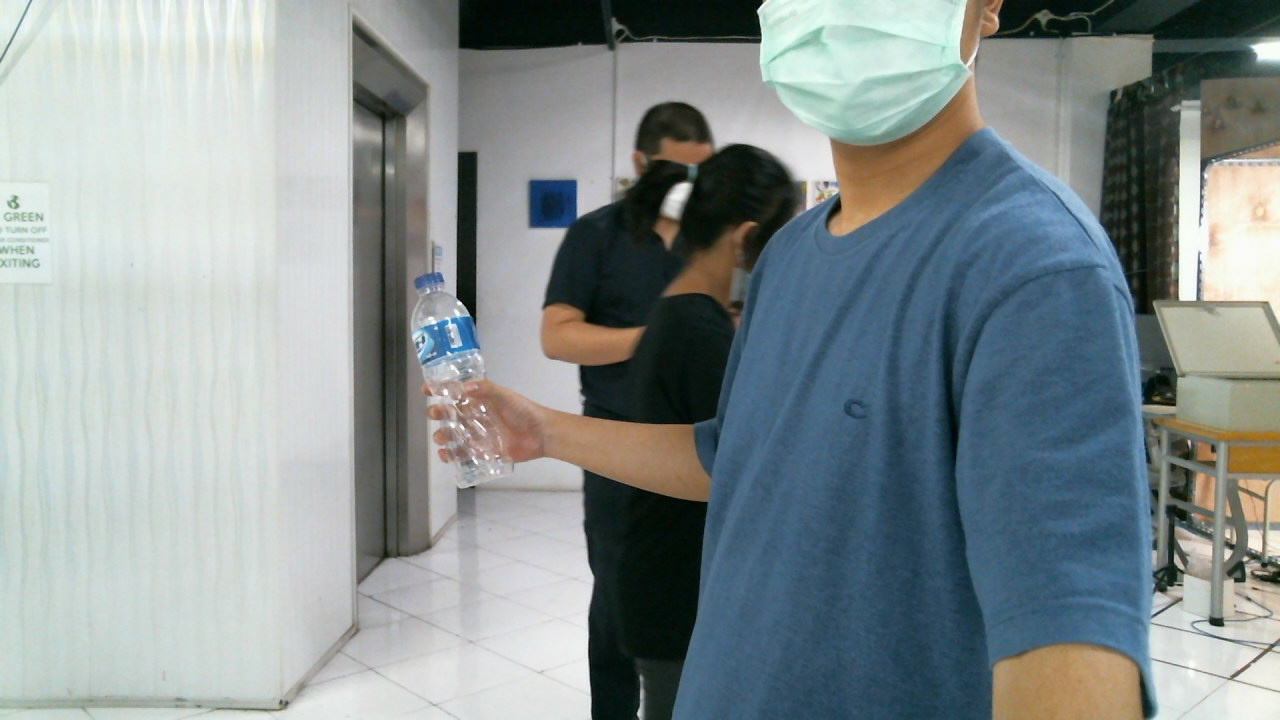Bottle: (407, 270, 516, 487)
